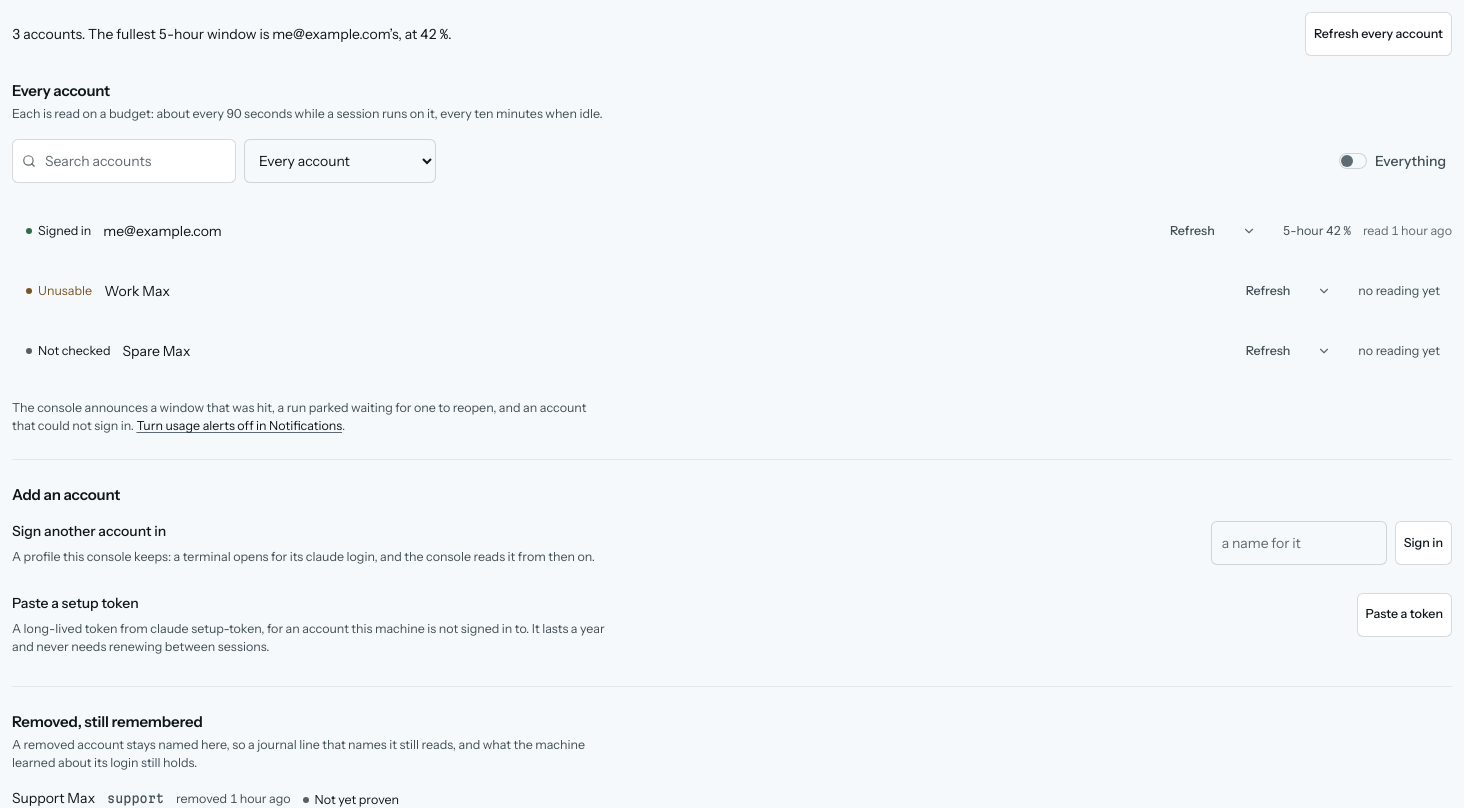
Test case: each account’s standing, as its row says it › says the breaker’s word, who wrote it and why, the last check, and its place first in the rank
Click the button named "Show ": (1249, 231) top-left (1227, 209), bottom-right (1271, 253)
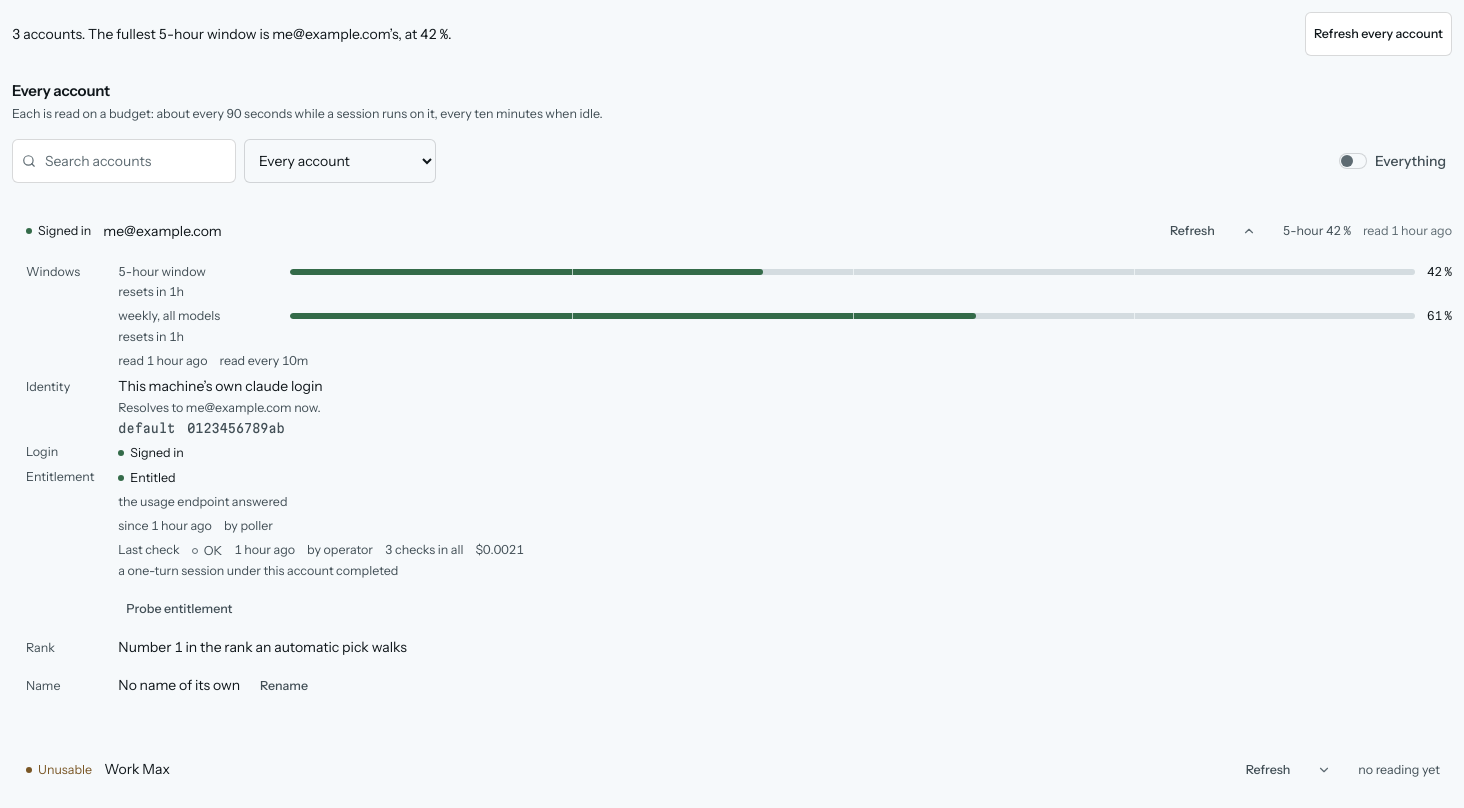
Now the element with test id "last-check" shows "Last check", box top-left (118, 542), bottom-right (180, 557)
Now the element with test id "last-check" shows "OK", box top-left (204, 543), bottom-right (222, 558)
Now the element with test id "last-check" shows "1 hour ago", box top-left (234, 542), bottom-right (295, 557)
